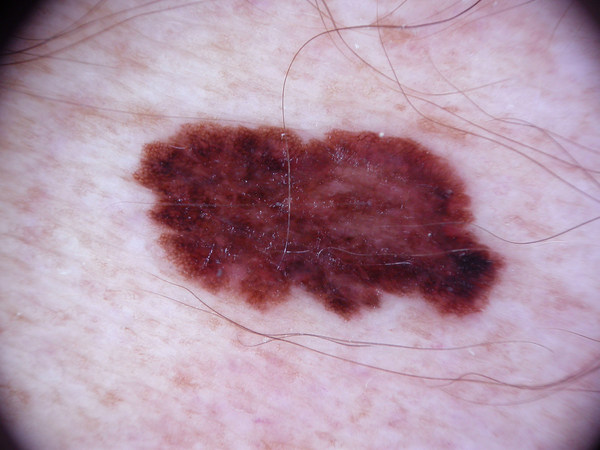Detected Lesion: (126, 107, 517, 327)
